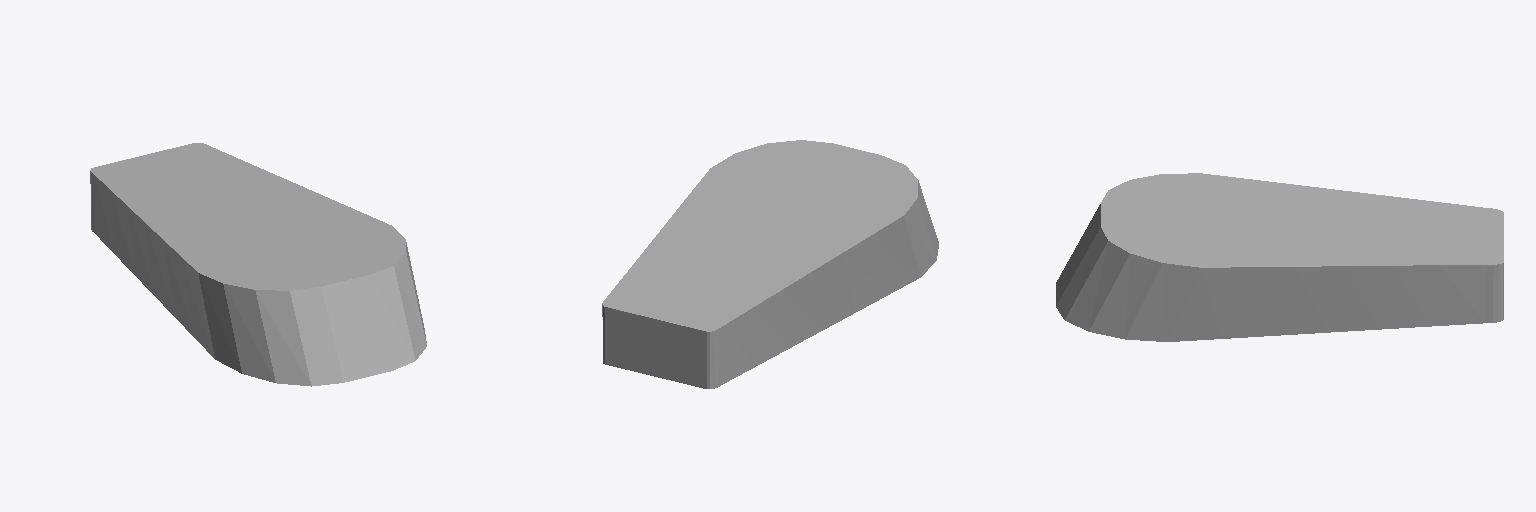
Rendered from RoadLight2.obj.
3 renders of one model, left to right at view 1: azimuth 30°, elevation 25°; view 2: azimuth 150°, elevation 25°; view 3: azimuth 270°, elevation 25°, orthographic.
Bounding box in the file's own units: 1 × 0.4045 × 2.